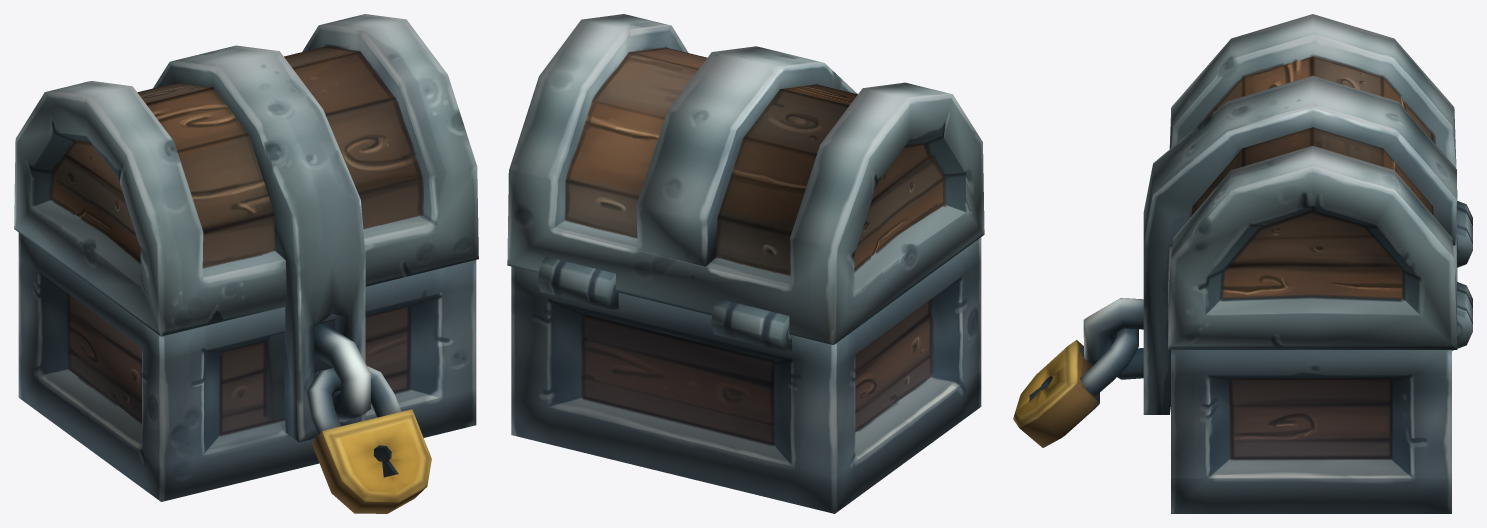
Rendered from Chest1.fbx.
The picture shows the model from 3 angles, left to right: view 1: azimuth 30°, elevation 25°; view 2: azimuth 150°, elevation 25°; view 3: azimuth 270°, elevation 25°; orthographic projection. The views are drawn at different scales.
Parts seen in each view (by area): view 1: ChestUpperLid_polySurface1, ChestBox_polySurface1, ChestLock_polySurface1; view 2: ChestUpperLid_polySurface1, ChestBox_polySurface1; view 3: ChestUpperLid_polySurface1, ChestBox_polySurface1, ChestLock_polySurface1.
Boxes of the visible parts, x1,y1,x2,y2 form: ChestUpperLid_polySurface1: (14,14,478,442); ChestBox_polySurface1: (18,233,476,501); ChestLock_polySurface1: (307,366,431,513); ChestUpperLid_polySurface1: (507,14,984,344); ChestBox_polySurface1: (511,237,981,513); ChestUpperLid_polySurface1: (1143,14,1457,414); ChestBox_polySurface1: (1083,201,1472,513); ChestLock_polySurface1: (1013,328,1138,447).
Size of the model in its own units: 1.05 by 1.11 by 1.33.
